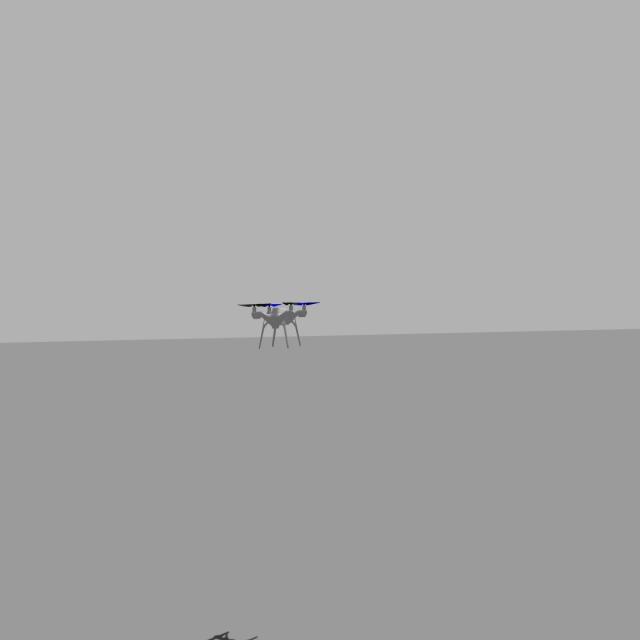Drone: (235, 293, 323, 352)
